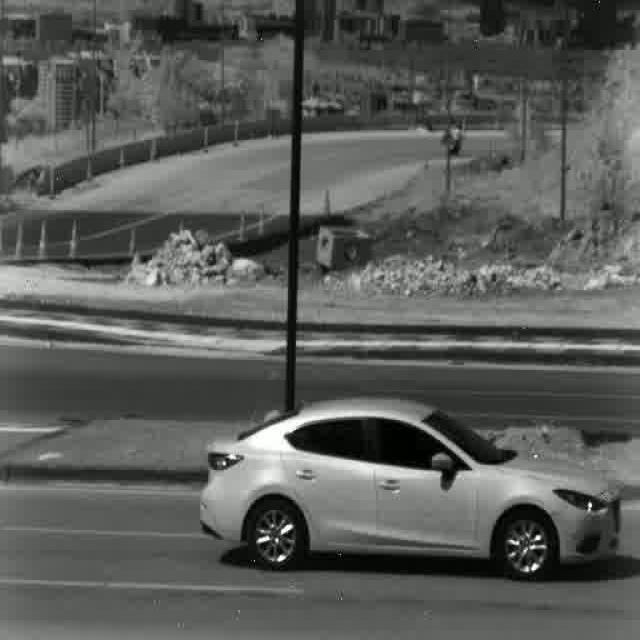Car: (188, 398, 626, 574)
Motorcycle: (448, 124, 462, 154)
